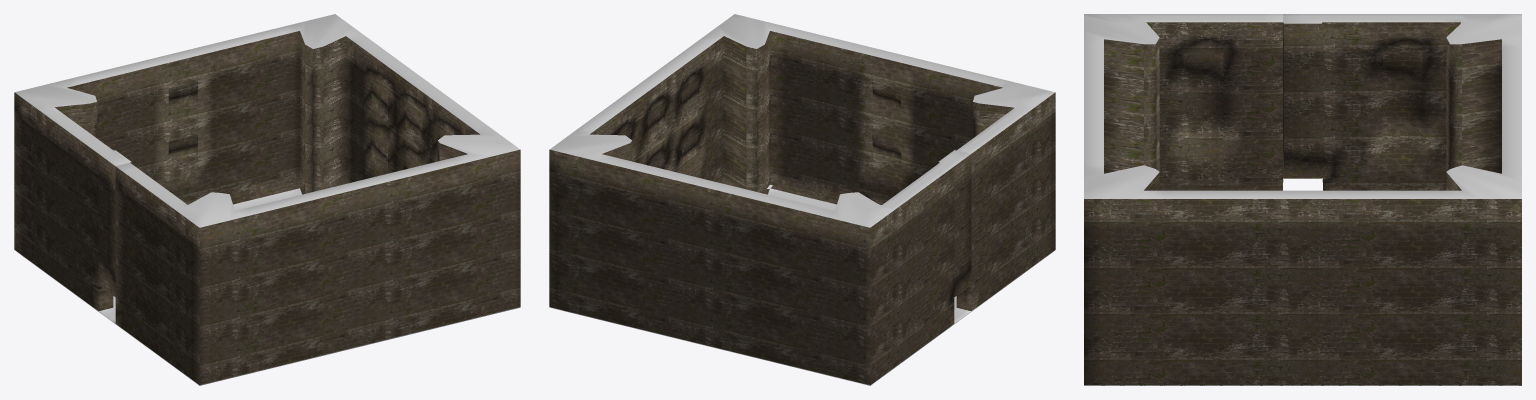
Rendered from ElevatorRoom.fbx.
3 views of the same model, side by side, from view 1: azimuth 30°, elevation 25°; view 2: azimuth 150°, elevation 25°; view 3: azimuth 270°, elevation 25° (orthographic). The views are drawn at different scales.
Visible parts, largest first — view 1: Room; view 2: Room; view 3: Room.
Part boxes in pixels (x1=…): Room: x1=14, y1=14, x2=520, y2=385; Room: x1=549, y1=14, x2=1055, y2=385; Room: x1=1084, y1=14, x2=1521, y2=385.
Bounding box in the file's own units: 8320 × 3978 × 8320.
